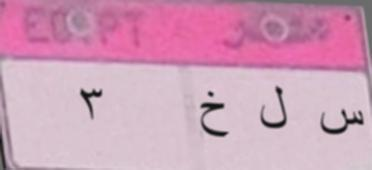3: (68, 78, 110, 122)
khaa: (198, 87, 230, 148)
laam: (253, 78, 292, 137)
seen: (316, 100, 369, 140)
